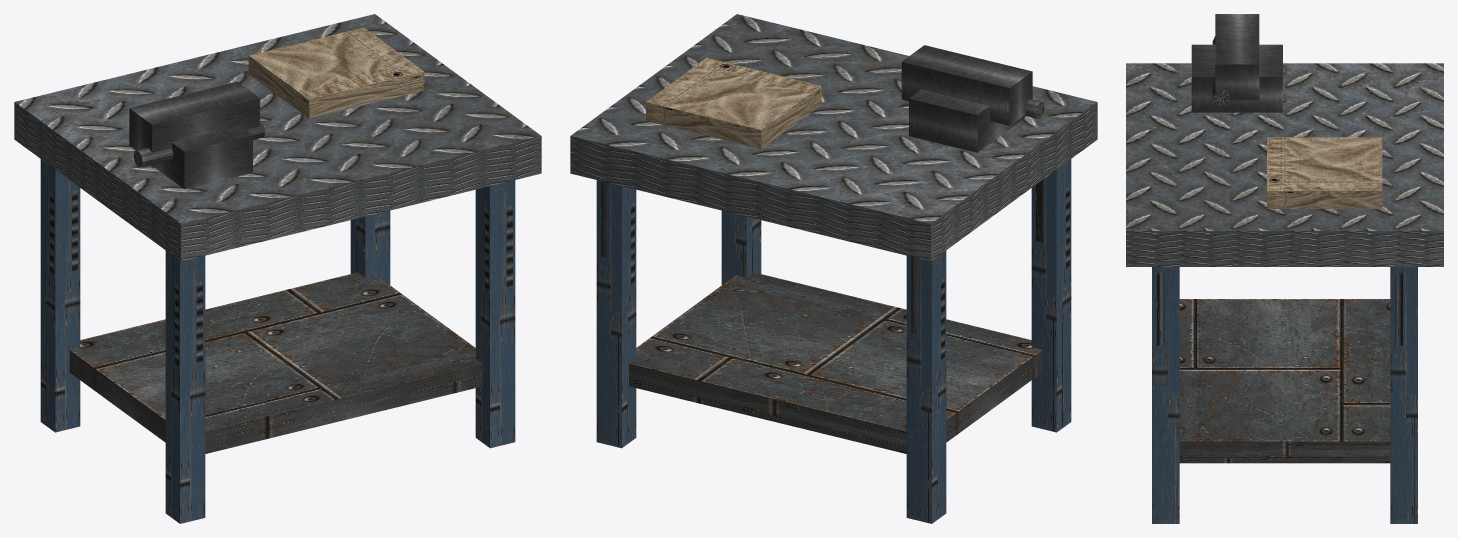
The model's file is workbench.obj.
3 views of the same model, side by side, from view 1: azimuth 30°, elevation 25°; view 2: azimuth 150°, elevation 25°; view 3: azimuth 270°, elevation 25° (orthographic). The views are drawn at different scales.
Parts seen in each view (by area): view 1: workbench; view 2: workbench; view 3: workbench.
Part boxes in pixels (<box>): workbench: <box>14,14,541,523</box>; workbench: <box>570,14,1097,523</box>; workbench: <box>1126,14,1443,523</box>.
Bounding box in the file's own units: 1 × 0.99 × 0.8.
2 materials, 2 textured.
